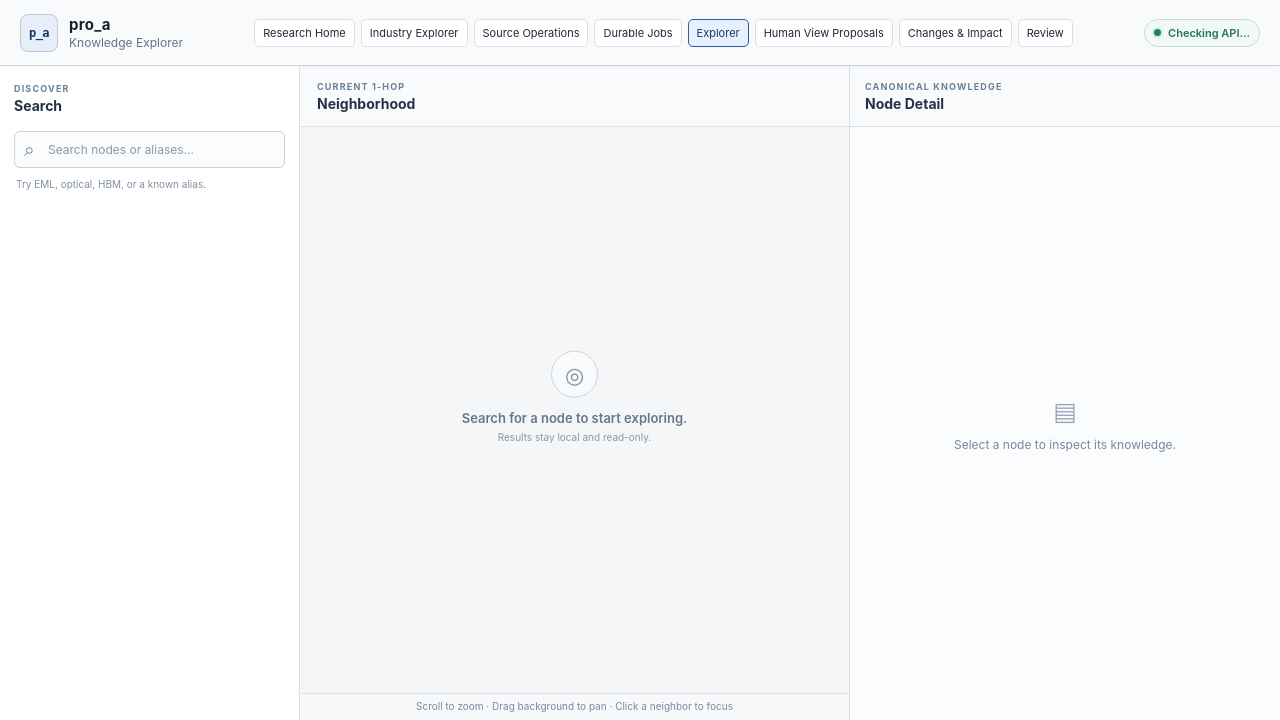
Test case: App error boundary › opens the read-only Human View Proposal surface
This screenshot has width=1280, height=720.
Step 1. Click the button "Human View Proposals" → (824, 32), box [755,18,893,46]
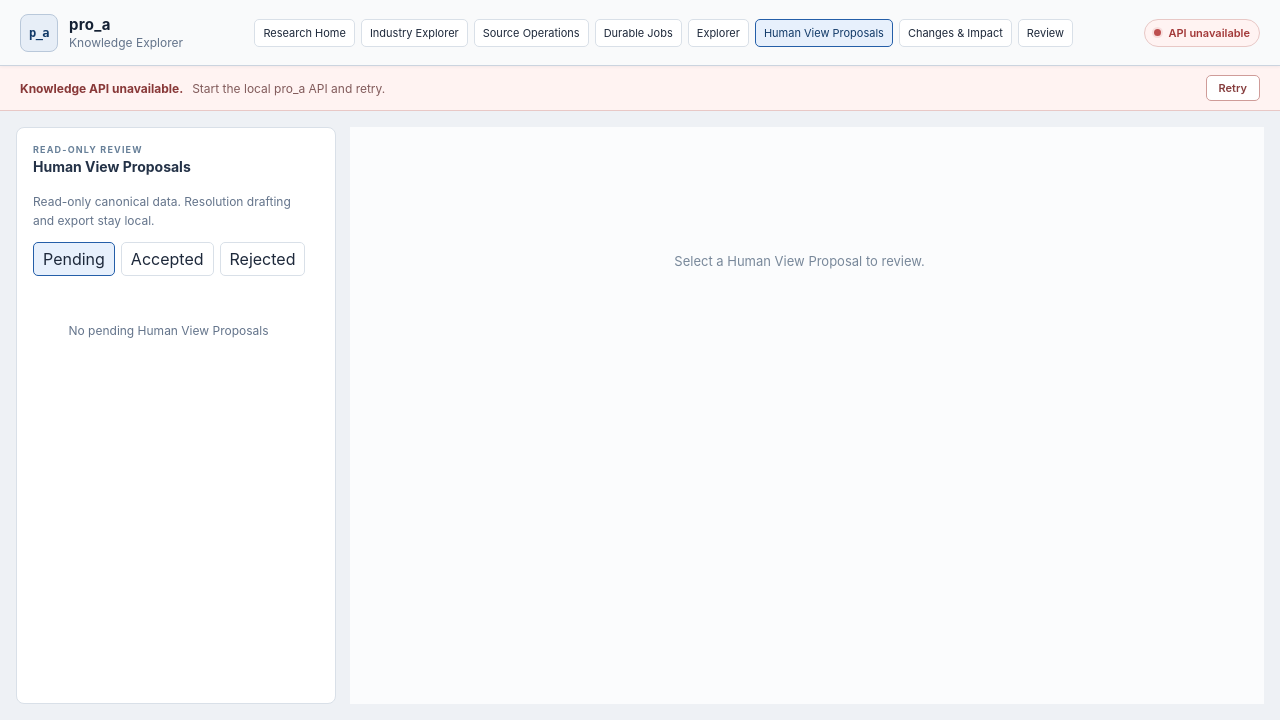
Now the text "No pending Human View Proposals" is shown, box [68,323,269,338]
Step 2. Click the button "Explorer" → (718, 32), box [688,18,749,46]
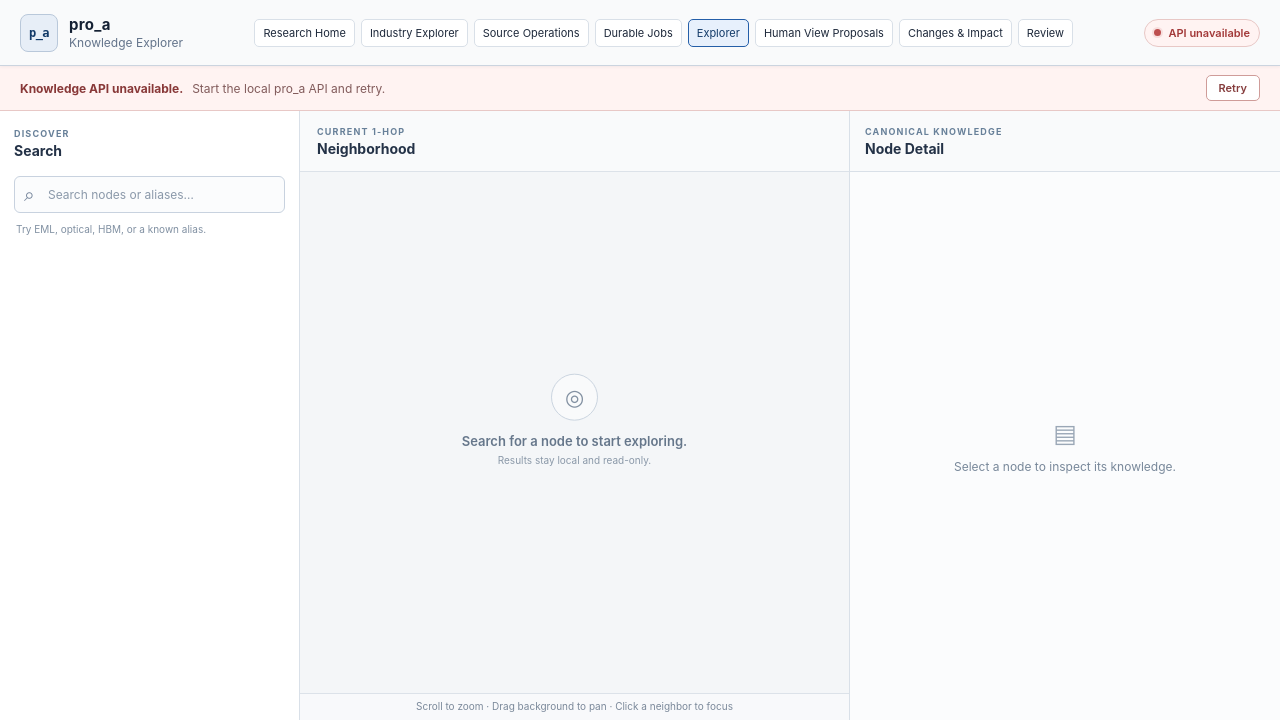
Now the text "Search for a node to start exploring." is shown, box [462,432,687,448]
